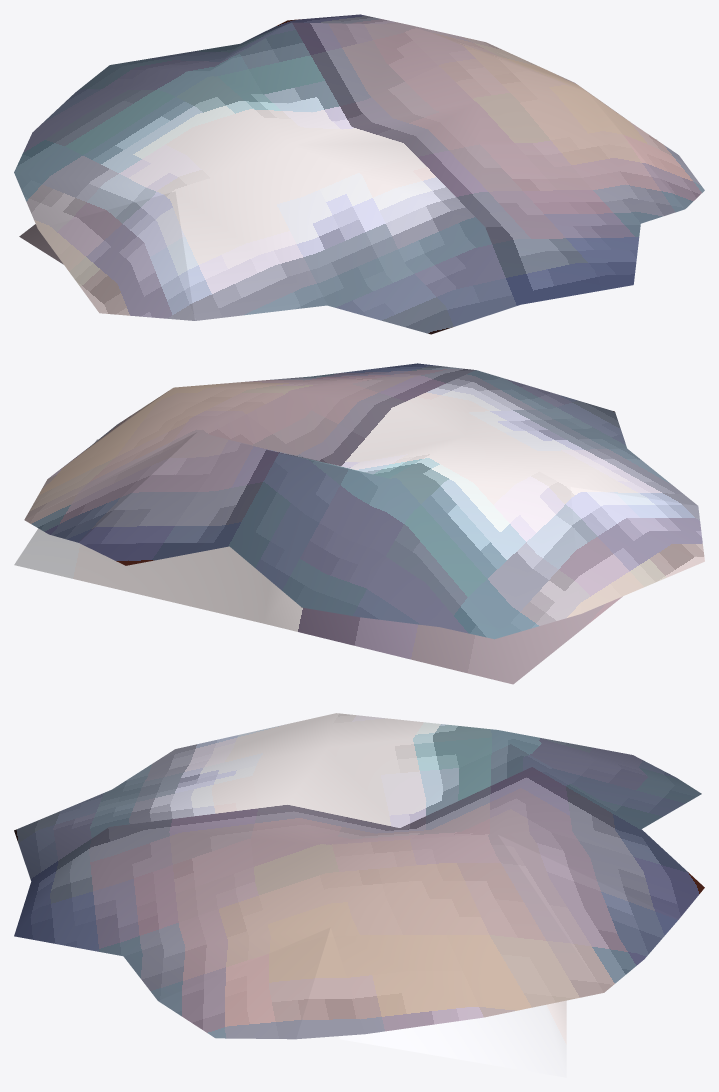
File: fg_rafflesia_x.dae
3 views of the same model, one above another, from view 1: azimuth 30°, elevation 25°; view 2: azimuth 150°, elevation 25°; view 3: azimuth 270°, elevation 25° (orthographic). The views are drawn at different scales.
Parts seen in each view (by area): view 1: fg_rafflesia_x; view 2: fg_rafflesia_x; view 3: fg_rafflesia_x.
Part boxes in pixels (x1,y1,x2,y2): fg_rafflesia_x: (14,14,704,334); fg_rafflesia_x: (14,363,704,684); fg_rafflesia_x: (14,713,704,1077).
Size of the model in its own units: 39.47 by 10.57 by 37.29.
1 material, 1 textured.
